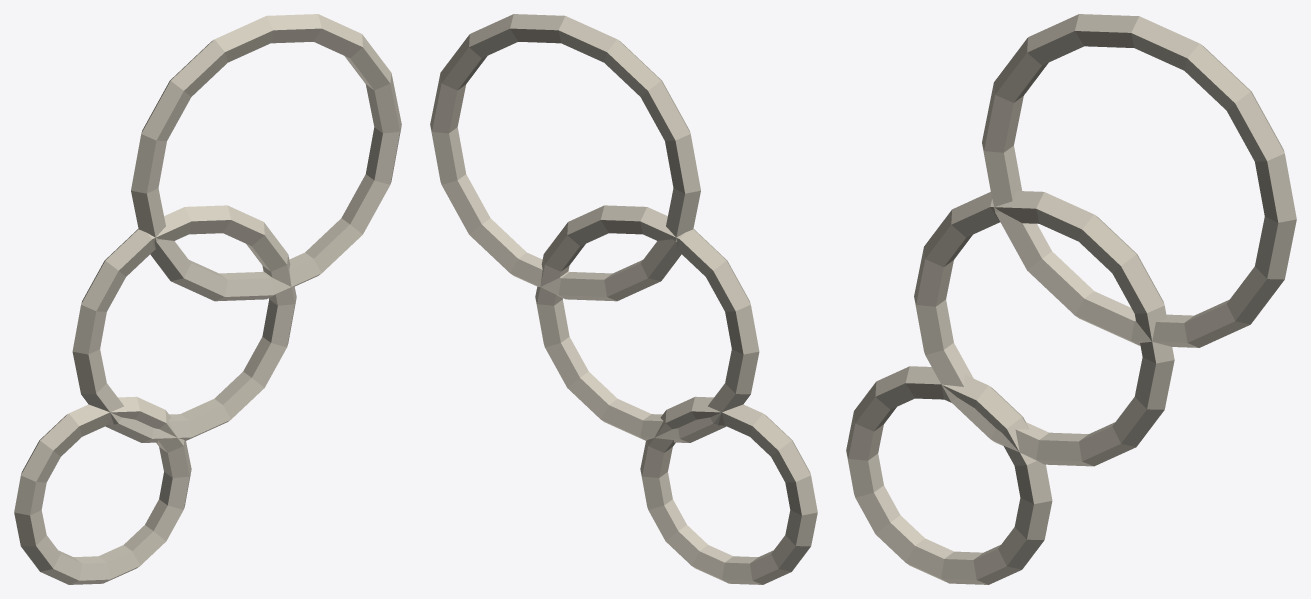
File: smoke.glb
The picture shows the model from 3 angles, left to right: view 1: azimuth 30°, elevation 25°; view 2: azimuth 150°, elevation 25°; view 3: azimuth 330°, elevation 25°; orthographic projection. The views are drawn at different scales.
Parts seen in each view (by area): view 1: smoke; view 2: smoke; view 3: smoke.
Part boxes in pixels (bbox=[...]): smoke: bbox=[14, 14, 401, 584]; smoke: bbox=[430, 14, 817, 584]; smoke: bbox=[846, 14, 1296, 584].
Size of the model in its own units: 0.2988 by 0.3888 by 0.0188.
